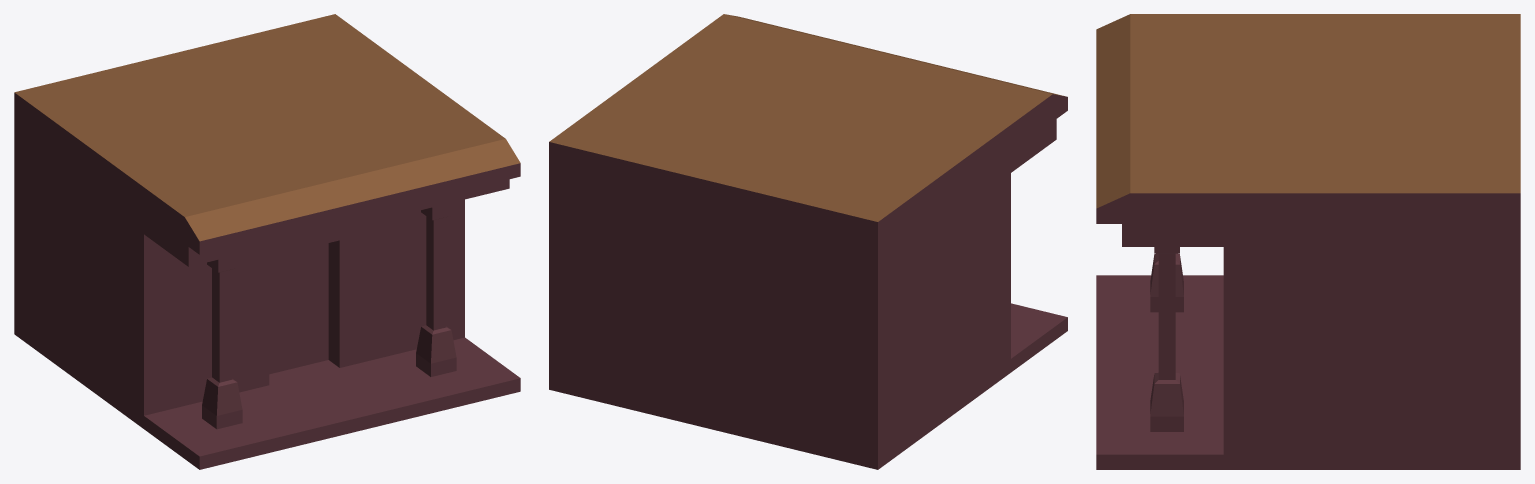
The model's file is hindu-wall-interior-door.fbx.
3 views of the same model, side by side, from view 1: azimuth 30°, elevation 25°; view 2: azimuth 150°, elevation 25°; view 3: azimuth 270°, elevation 25° (orthographic). The views are drawn at different scales.
Parts seen in each view (by area): view 1: hindu-wall-interior-door; view 2: hindu-wall-interior-door; view 3: hindu-wall-interior-door.
Part boxes in pixels (bbox=[...]): hindu-wall-interior-door: bbox=[14, 14, 520, 469]; hindu-wall-interior-door: bbox=[549, 14, 1067, 469]; hindu-wall-interior-door: bbox=[1096, 14, 1520, 469].
Bounding box in the file's own units: 5 × 3.6 × 5.
